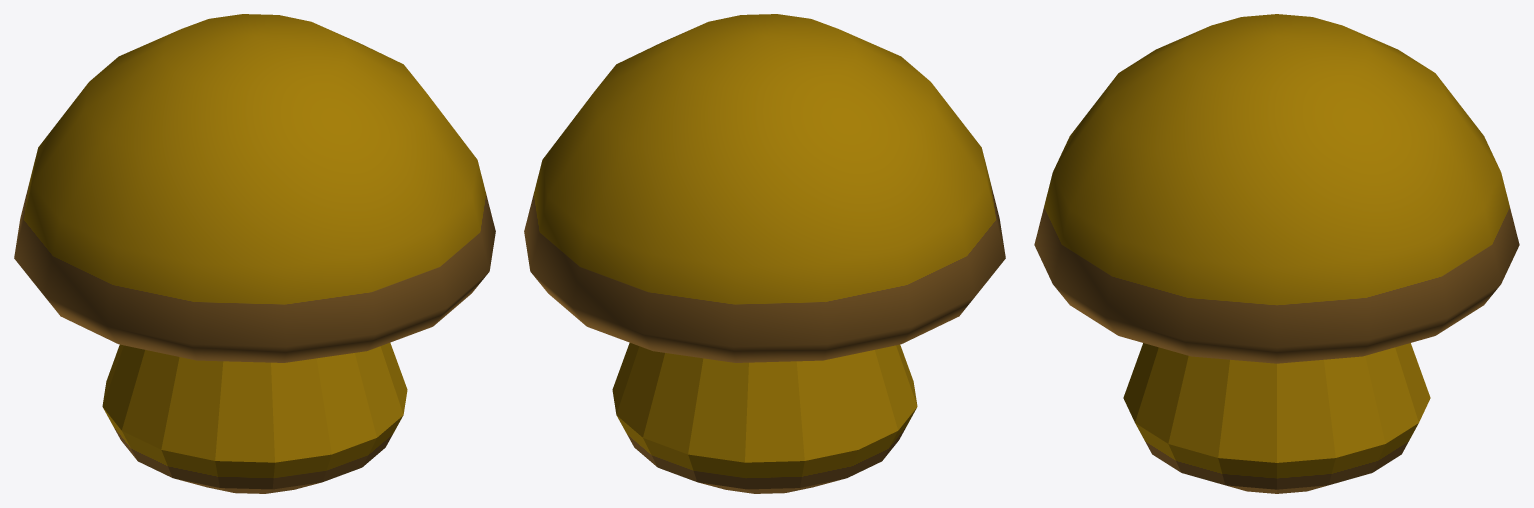
The model's file is ITMC_Champi.FBX.
The picture shows the model from 3 angles, left to right: view 1: azimuth 30°, elevation 25°; view 2: azimuth 150°, elevation 25°; view 3: azimuth 270°, elevation 25°; orthographic projection.
Visible parts, largest first — view 1: ITMC_Champi; view 2: ITMC_Champi; view 3: ITMC_Champi.
Boxes of the visible parts, <box> form: ITMC_Champi: <box>14,14,495,493</box>; ITMC_Champi: <box>524,14,1005,493</box>; ITMC_Champi: <box>1034,14,1519,493</box>.
Bounding box in the file's own units: 0.7161 × 0.6907 × 0.7161.
